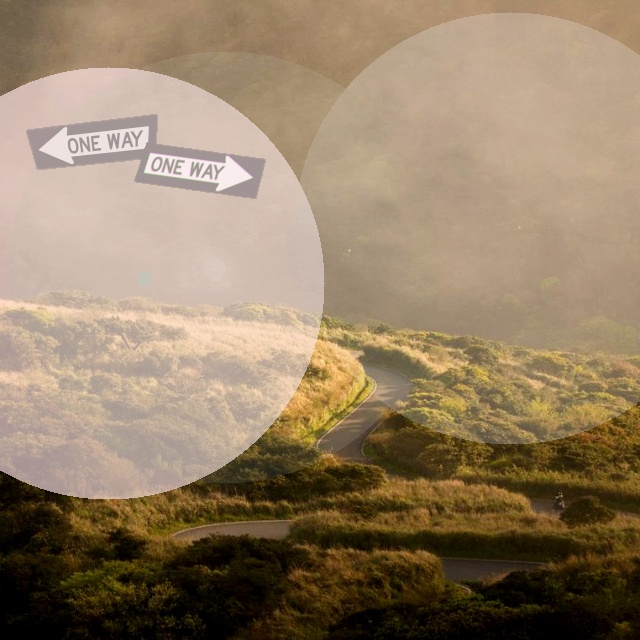ONE_WAY_ left: (25, 113, 158, 170)
ONE_WAY_ right: (133, 142, 266, 199)
